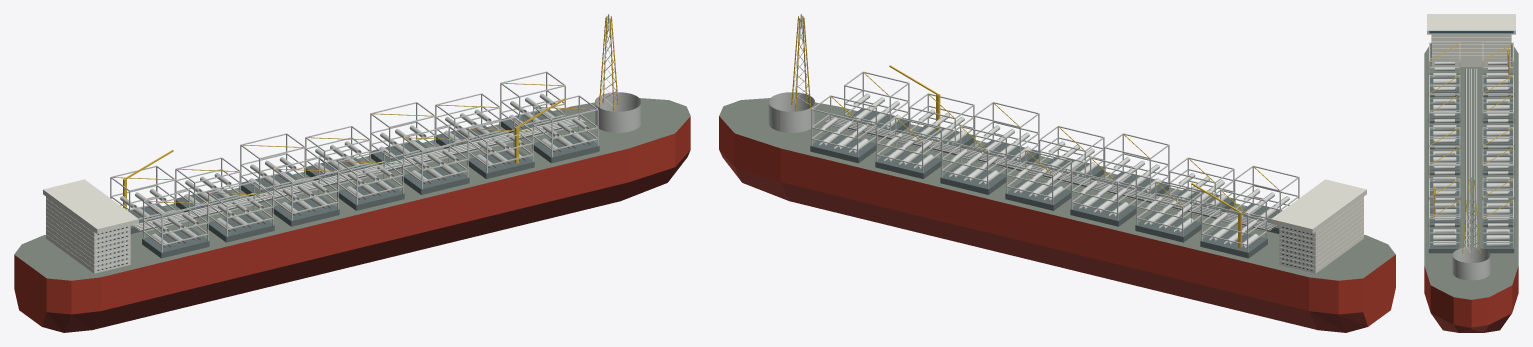
Rendered from earth3d3-prelude-flng.glb.
The picture shows the model from 3 angles, left to right: view 1: azimuth 30°, elevation 25°; view 2: azimuth 150°, elevation 25°; view 3: azimuth 270°, elevation 25°; orthographic projection. The views are drawn at different scales.
Visible parts, largest first — view 1: Pale process steel (×2), Red hull, authored paint, Deck, Lower hull, Process skid shadow, Stern accommodation, Yellow safety steel; view 2: Pale process steel (×2), Red hull, authored paint, Deck, Lower hull, Process skid shadow, Stern accommodation, Yellow safety steel; view 3: Pale process steel (×2), Deck, Process skid shadow, Stern accommodation, Red hull, authored paint, Yellow safety steel, Lower hull, Bridge glazing.
Part boxes in pixels (x1,y1,x2,y2): Pale process steel (×2): [110, 14, 641, 252]; Red hull, authored paint: [14, 116, 690, 326]; Deck: [14, 98, 690, 280]; Lower hull: [42, 150, 690, 332]; Process skid shadow: [127, 109, 599, 258]; Stern accommodation: [43, 179, 138, 273]; Yellow safety steel: [112, 16, 618, 209]; Pale process steel (×2): [768, 14, 1299, 252]; Red hull, authored paint: [719, 116, 1395, 326]; Deck: [719, 98, 1395, 280]; Lower hull: [719, 150, 1367, 332]; Process skid shadow: [810, 108, 1282, 258]; Stern accommodation: [1271, 179, 1366, 273]; Yellow safety steel: [791, 15, 1279, 248]; Pale process steel (×2): [1429, 42, 1513, 280]; Deck: [1424, 43, 1518, 299]; Process skid shadow: [1428, 55, 1514, 253]; Stern accommodation: [1427, 14, 1515, 66]; Red hull, authored paint: [1424, 266, 1518, 327]; Yellow safety steel: [1430, 43, 1512, 257]; Lower hull: [1431, 313, 1511, 332]; Bridge glazing: [1429, 31, 1513, 63].
Bounding box in the file's own units: 488 × 121 × 74.
